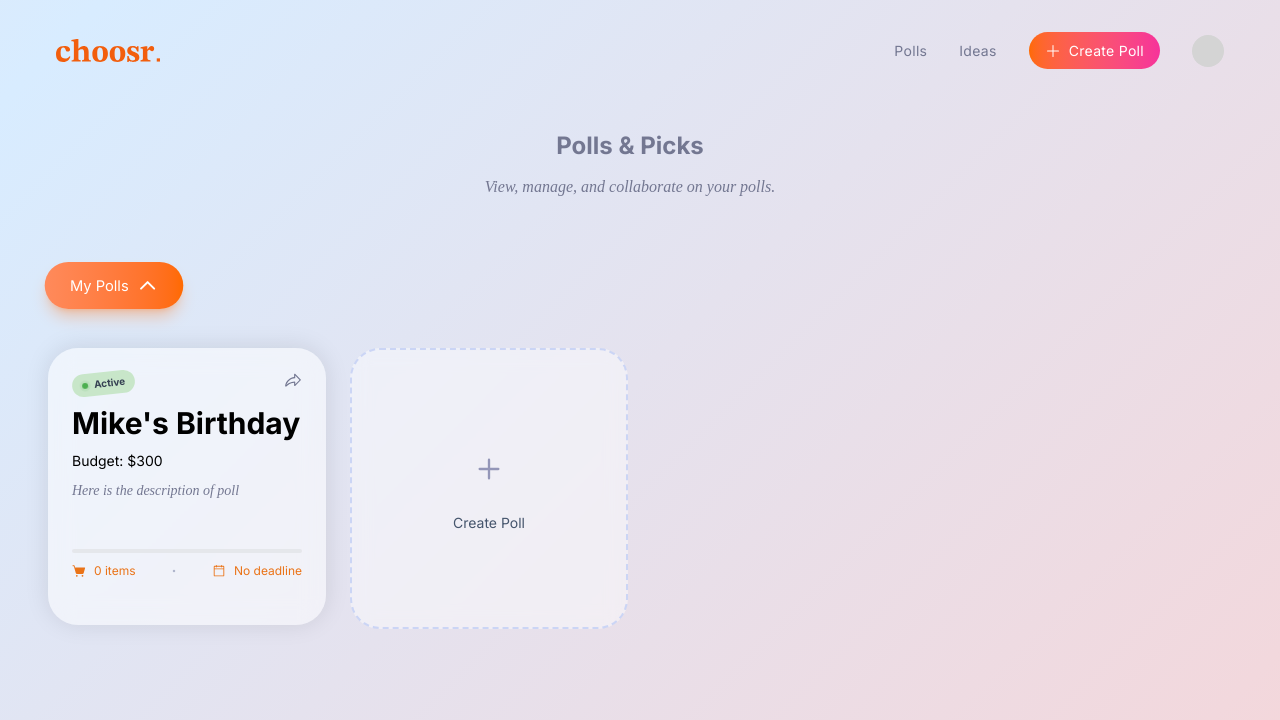
Poll Page › failes by editing poll description with long description
Click the heading "Mike's Birthday".
click(187, 423)  # box left=72, top=405, right=302, bottom=441
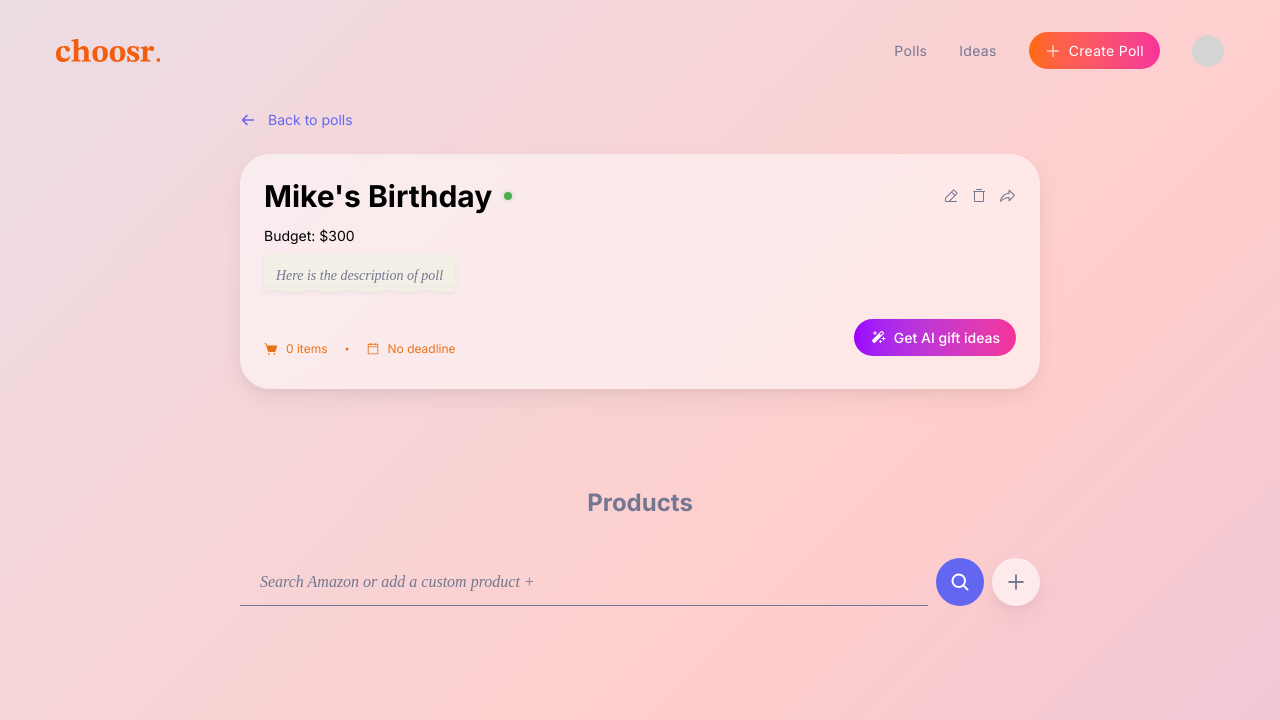
Click the icon with test id "edit-icon".
click(951, 196)  # box left=943, top=188, right=959, bottom=204
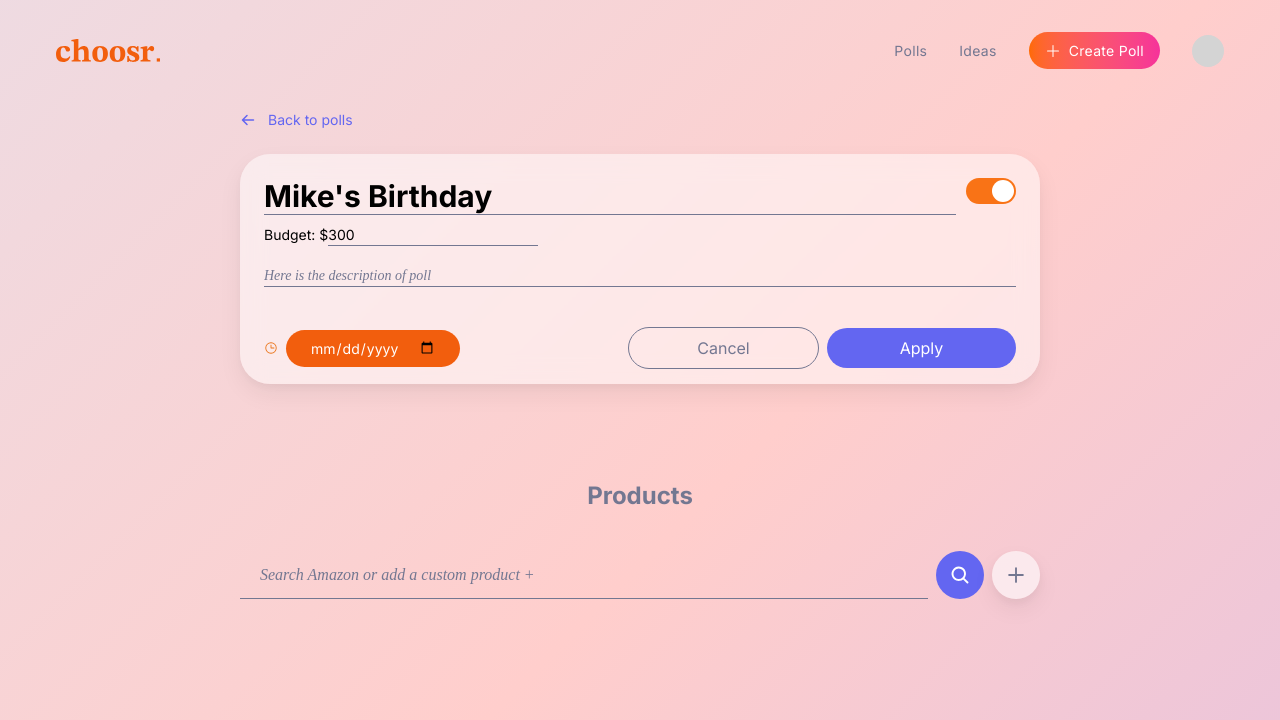
Replace the text in the 2nd field named "description" with "Here is very looooooooooooooooooooooooooooooooooooooooooooooooooooooooooooooooooooooooooooooooooooooooooooooooooooooooooooooooooooooooooooooooooooong description" at (640,277), box left=264, top=266, right=1016, bottom=287
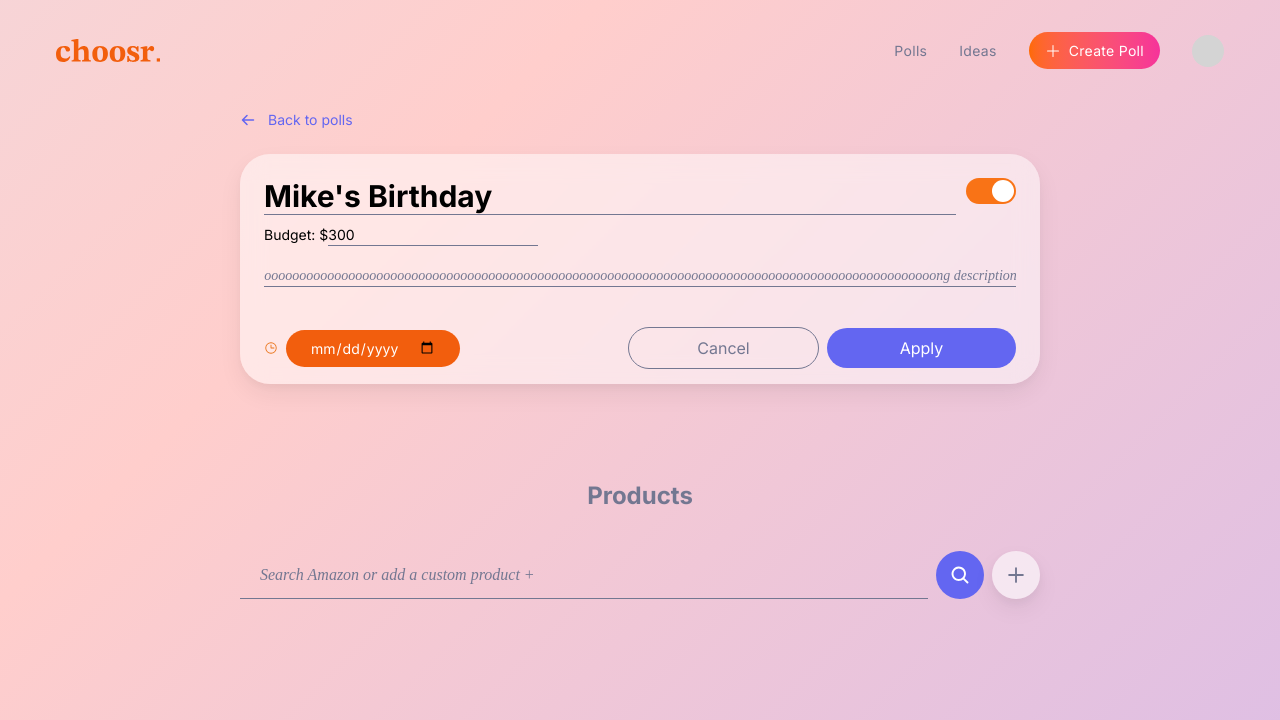
Click the button "Apply".
click(922, 348)  # box left=827, top=328, right=1016, bottom=368
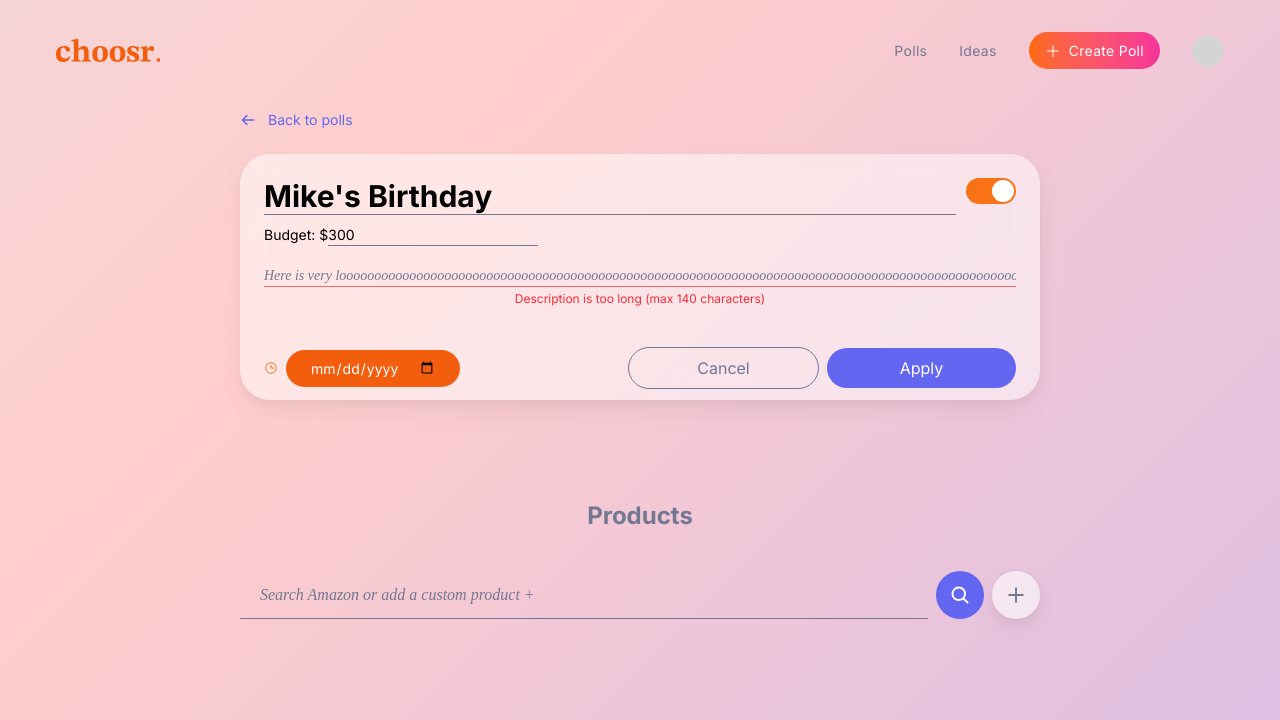
Expected: the text "Description is too long (max 140 characters)" is shown, left=515, top=291, right=765, bottom=306
